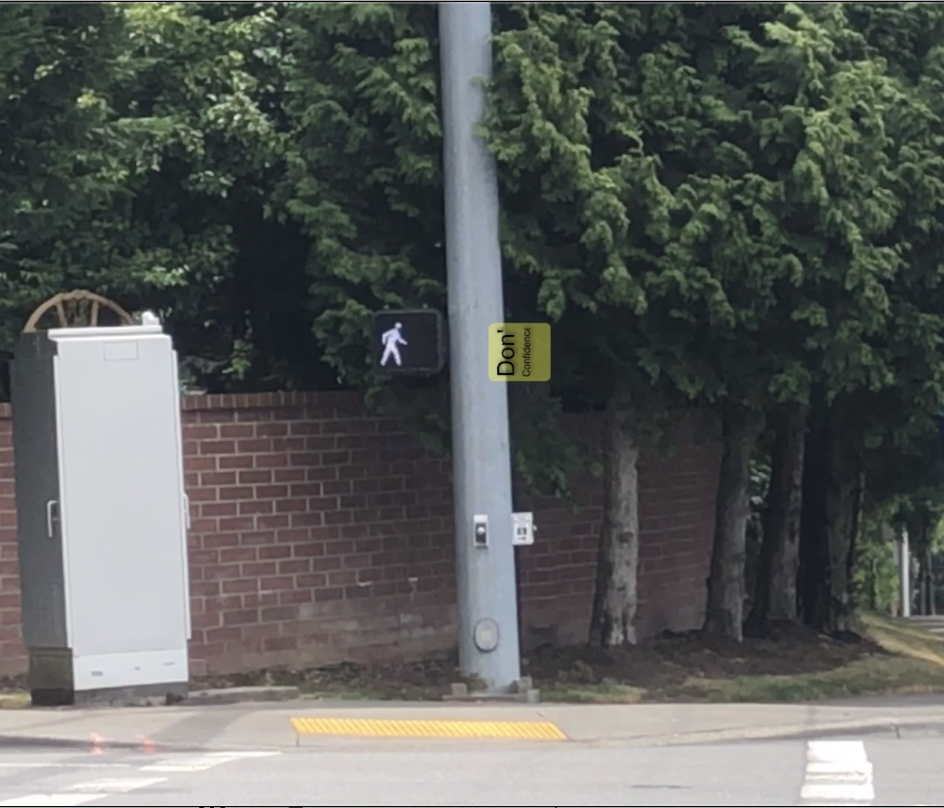pedestrian_walk: (371, 315, 438, 370)
